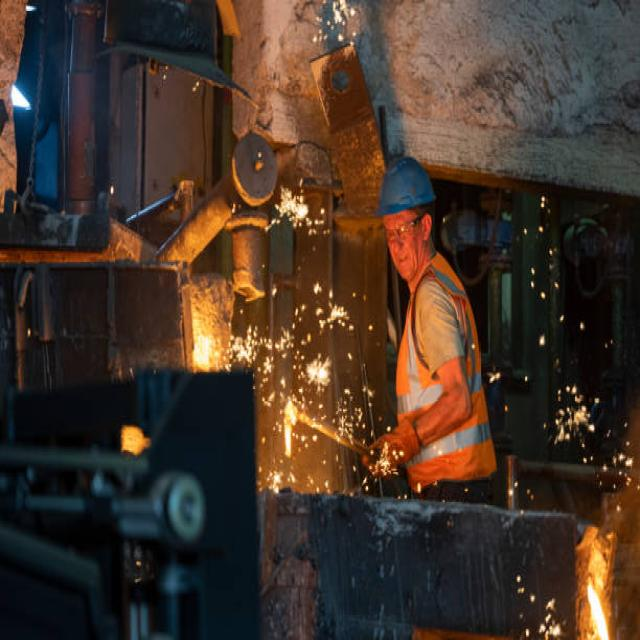Gloves: (359, 405, 427, 485)
Vest: (394, 246, 501, 500)
helmet: (374, 156, 441, 220)
person: (360, 153, 502, 640)
